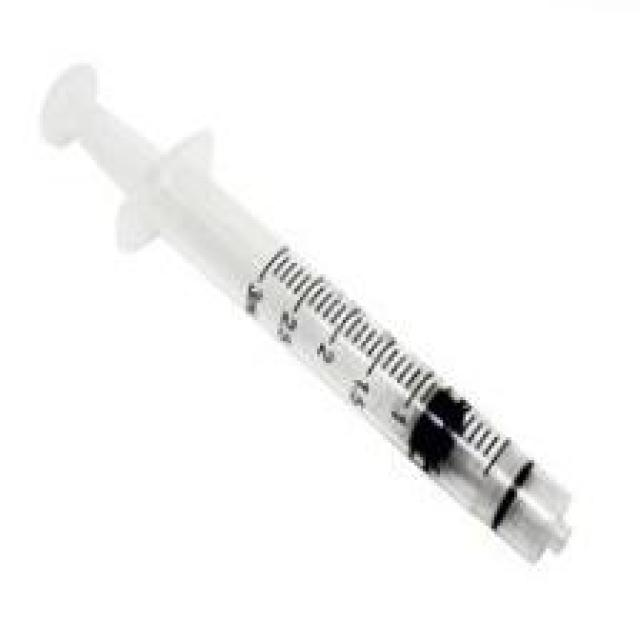syringe: (38, 80, 595, 578)
